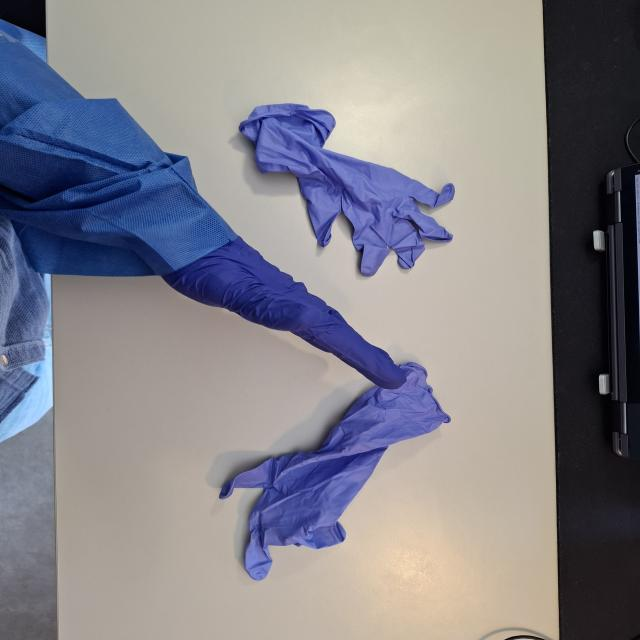glove_on: (145, 229, 411, 391)
